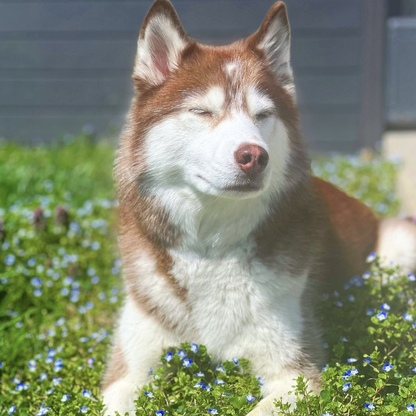husky: (96, 1, 414, 416)
